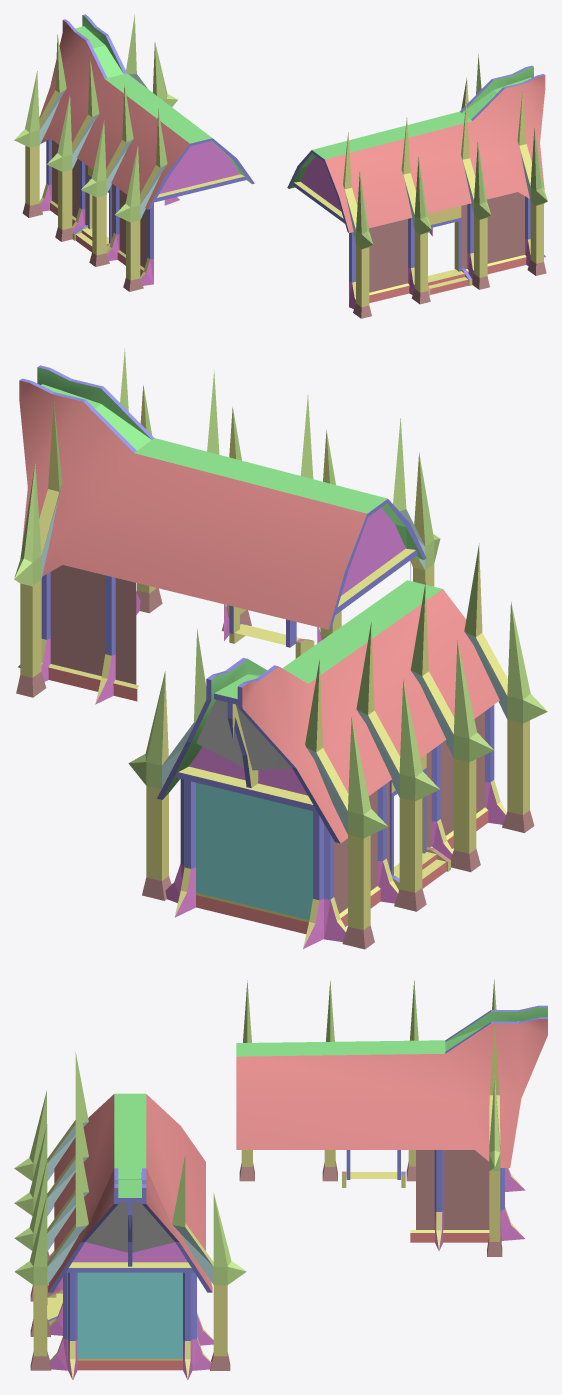
The model's file is O_DE_Bank_Set.gltf.
3 views of the same model, one above another, from view 1: azimuth 30°, elevation 25°; view 2: azimuth 150°, elevation 25°; view 3: azimuth 270°, elevation 25° (orthographic). The views are drawn at different scales.
Visible parts, largest first — view 1: O_DE_Bank_Set; view 2: O_DE_Bank_Set; view 3: O_DE_Bank_Set.
Boxes of the visible parts, left/top/right/bottom form: O_DE_Bank_Set: left=14, top=14, right=547, bottom=318; O_DE_Bank_Set: left=14, top=348, right=547, bottom=949; O_DE_Bank_Set: left=14, top=979, right=547, bottom=1380.
Size of the model in its own units: 9.36 by 4.16 by 9.41.
